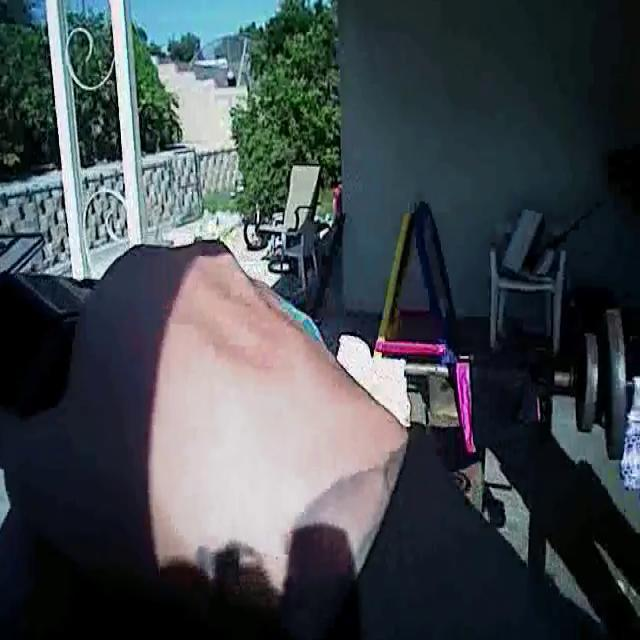gun: (0, 185, 154, 459)
